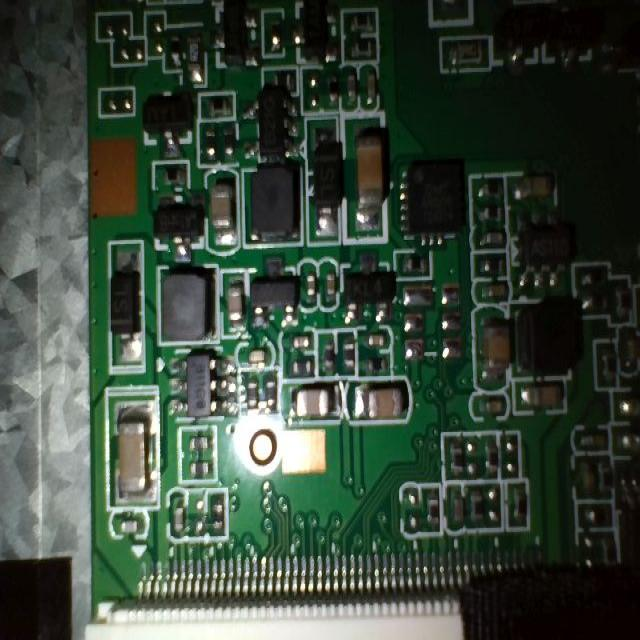capacitor: (342, 113, 392, 242), (108, 389, 160, 511), (468, 305, 517, 393), (202, 168, 243, 262), (348, 378, 416, 424), (283, 383, 345, 425), (507, 169, 568, 207), (520, 375, 569, 421), (219, 268, 249, 342), (470, 388, 512, 426), (443, 484, 469, 538), (474, 276, 513, 310), (362, 65, 384, 112)
resistor: (502, 484, 544, 528), (235, 366, 265, 419), (441, 432, 473, 478), (420, 486, 447, 540), (339, 32, 382, 64), (481, 428, 504, 486), (570, 263, 616, 290), (468, 172, 509, 202), (196, 88, 236, 118), (341, 2, 381, 31), (471, 251, 507, 282), (262, 362, 281, 420), (154, 162, 195, 188), (322, 68, 341, 122), (612, 278, 635, 322), (469, 482, 490, 529), (287, 354, 321, 382), (468, 204, 511, 226), (362, 352, 400, 376)
